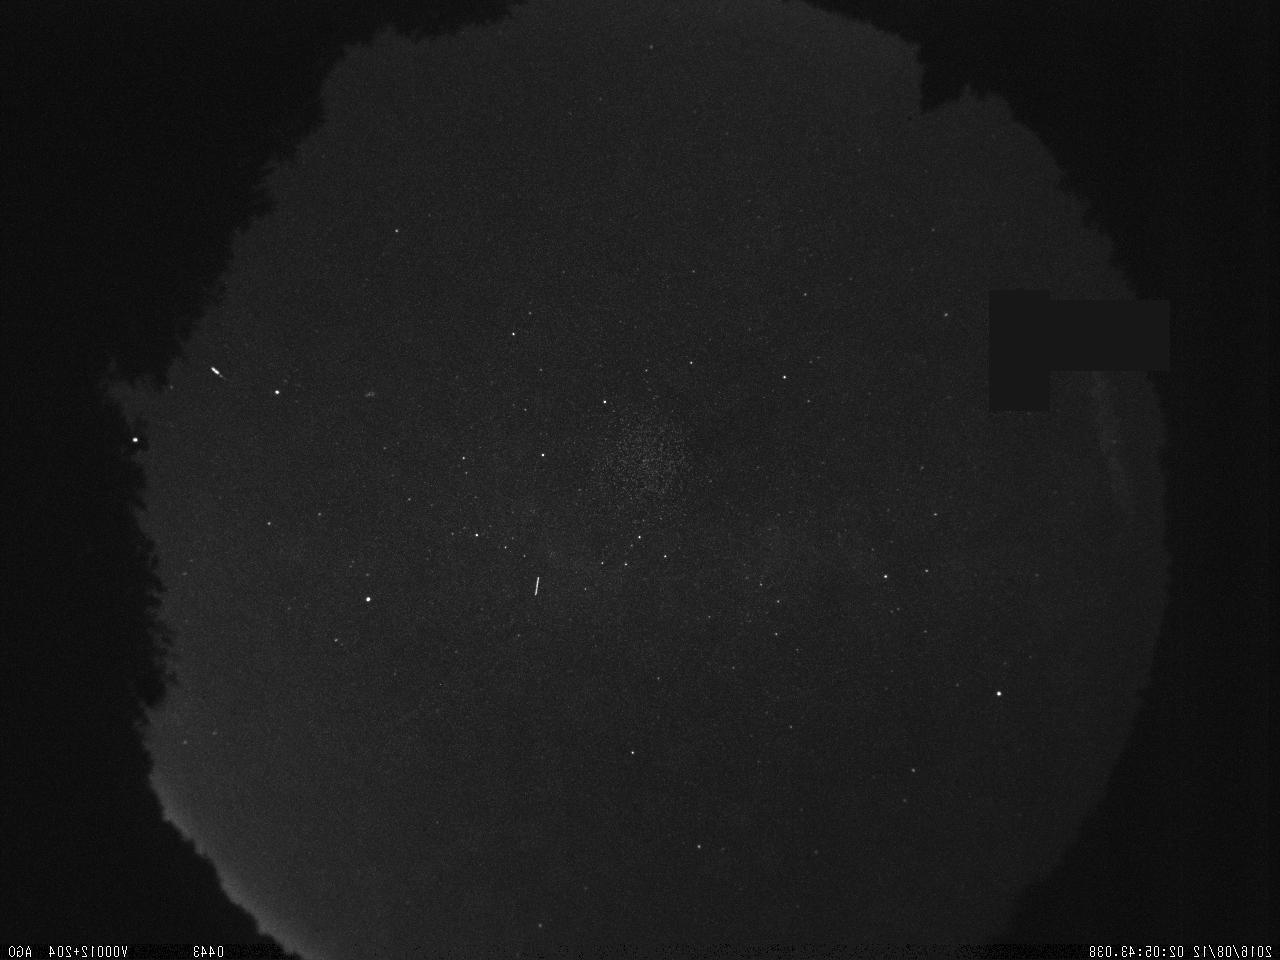meteor: (205, 359, 231, 385)
